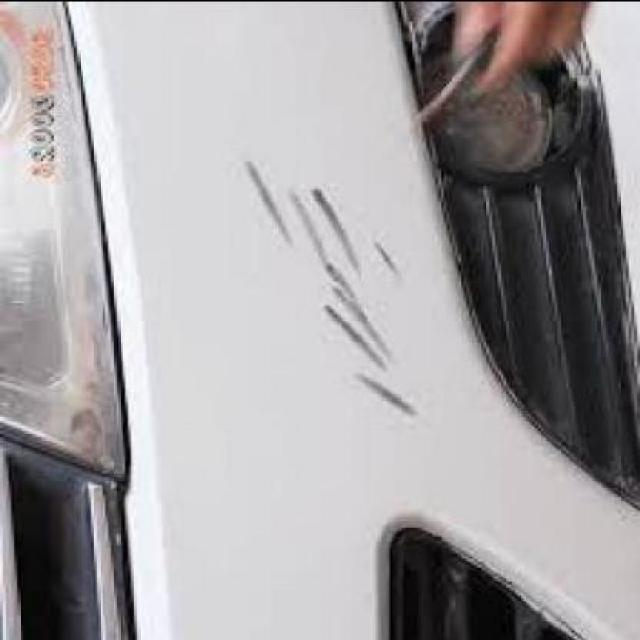damage: (245, 154, 424, 424)
